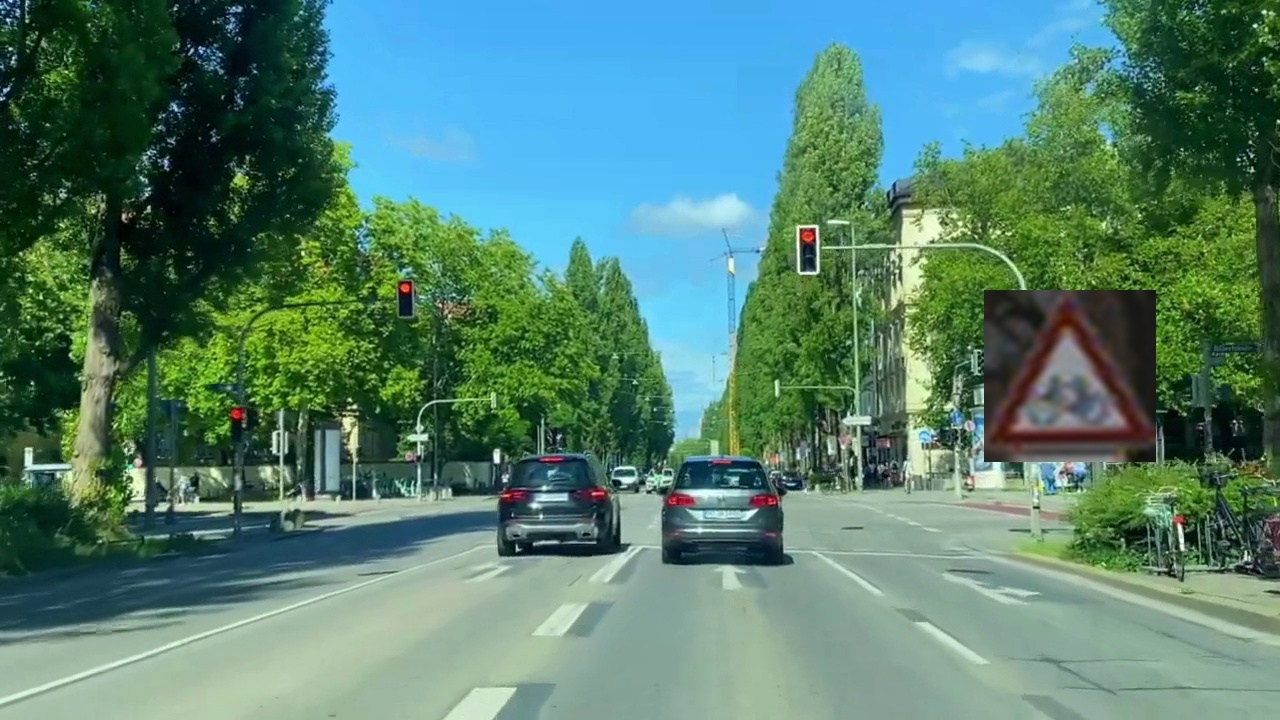Bicycles: (984, 290, 1156, 462)
